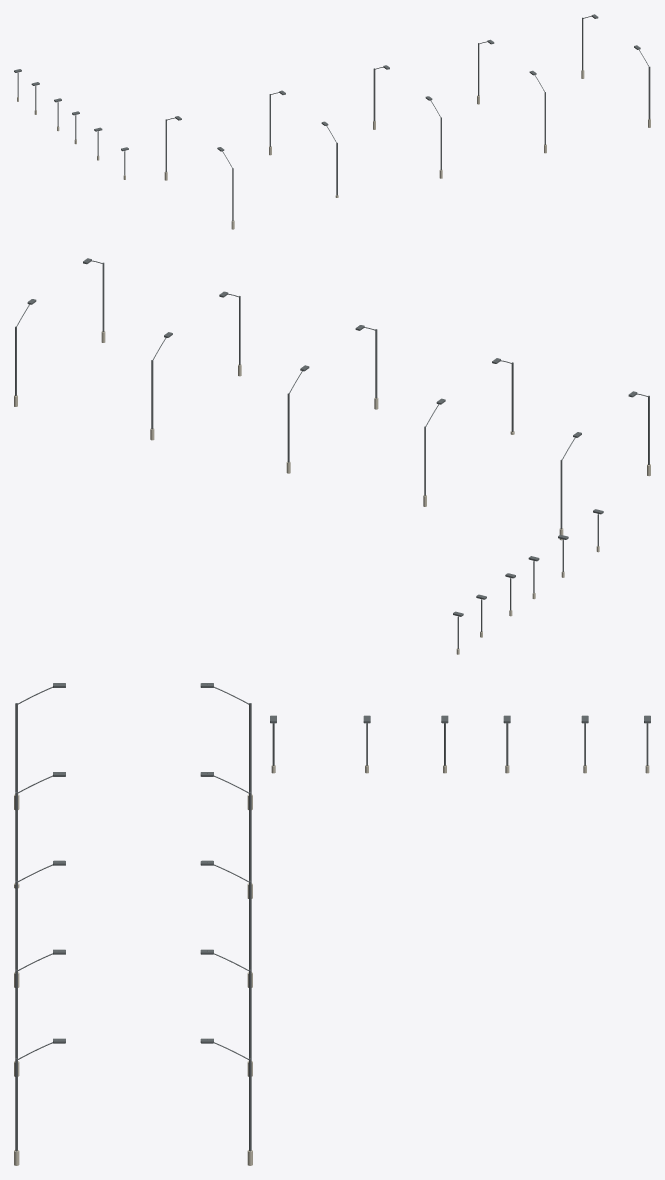
3 views of the same model, one above another, from view 1: azimuth 30°, elevation 25°; view 2: azimuth 150°, elevation 25°; view 3: azimuth 270°, elevation 25° (orthographic). The views are drawn at different scales.
Parts seen in each view (by area): view 1: buildings_s_-8_5_Dark_Metal, buildings_s_-8_5_Warm_Limestone; view 2: buildings_s_-8_5_Dark_Metal, buildings_s_-8_5_Warm_Limestone; view 3: buildings_s_-8_5_Dark_Metal, buildings_s_-8_5_Warm_Limestone.
Boxes of the visible parts, <box> form: buildings_s_-8_5_Dark_Metal: <box>14,14,650,220</box>; buildings_s_-8_5_Warm_Limestone: <box>17,70,650,229</box>; buildings_s_-8_5_Dark_Metal: <box>15,258,649,648</box>; buildings_s_-8_5_Warm_Limestone: <box>14,331,650,654</box>; buildings_s_-8_5_Dark_Metal: <box>15,683,650,1151</box>; buildings_s_-8_5_Warm_Limestone: <box>14,765,649,1165</box>.
Bounding box in the file's own units: 118 × 17.75 × 81.79.
